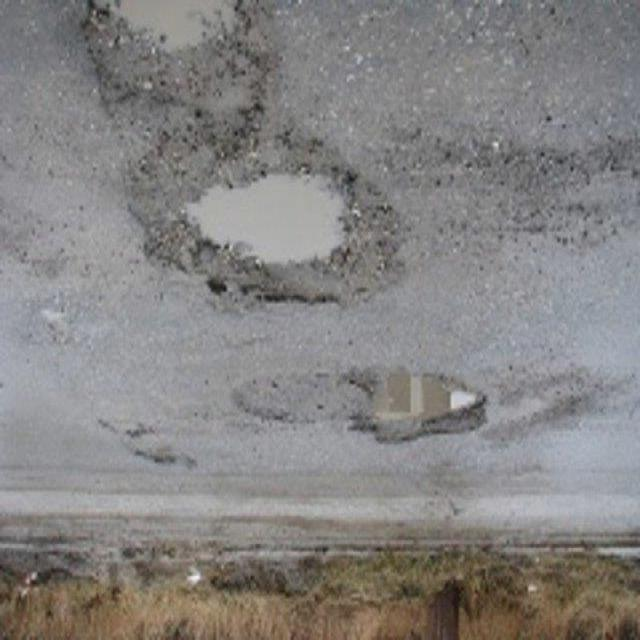lubang: (101, 101, 406, 316), (225, 361, 508, 477), (72, 2, 274, 128), (94, 410, 210, 484), (38, 303, 77, 337)
